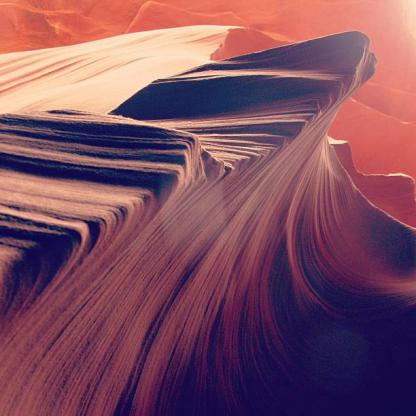Sedimentary_Sandstone: (0, 115, 233, 186), (144, 77, 330, 113), (4, 197, 85, 251)
